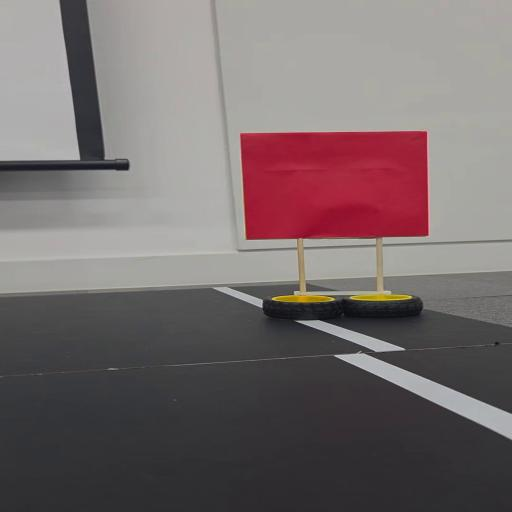Sign_A: (230, 128, 446, 325)
